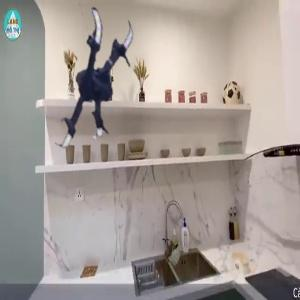drone: (13, 7, 154, 148)
